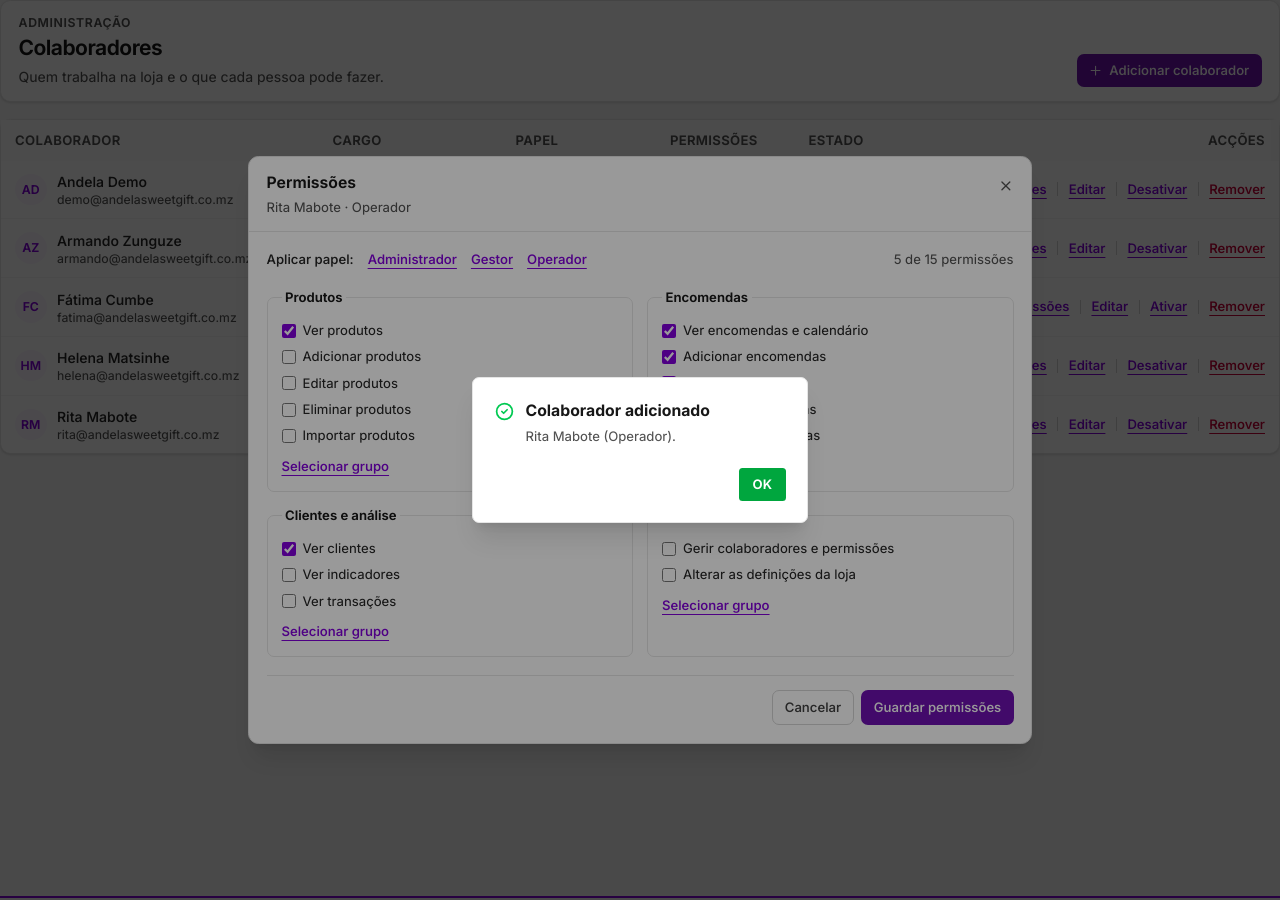
Test case: colaboradores › adiciona um colaborador e abre as permissões
Earlier steps of the test are not shown.
Expected: the text "5 de 15 permissões" is shown, left=894, top=250, right=1014, bottom=270
Step 1. Click the checkbox labelled "Ver indicadores" → [288, 575], box left=282, top=568, right=296, bottom=582
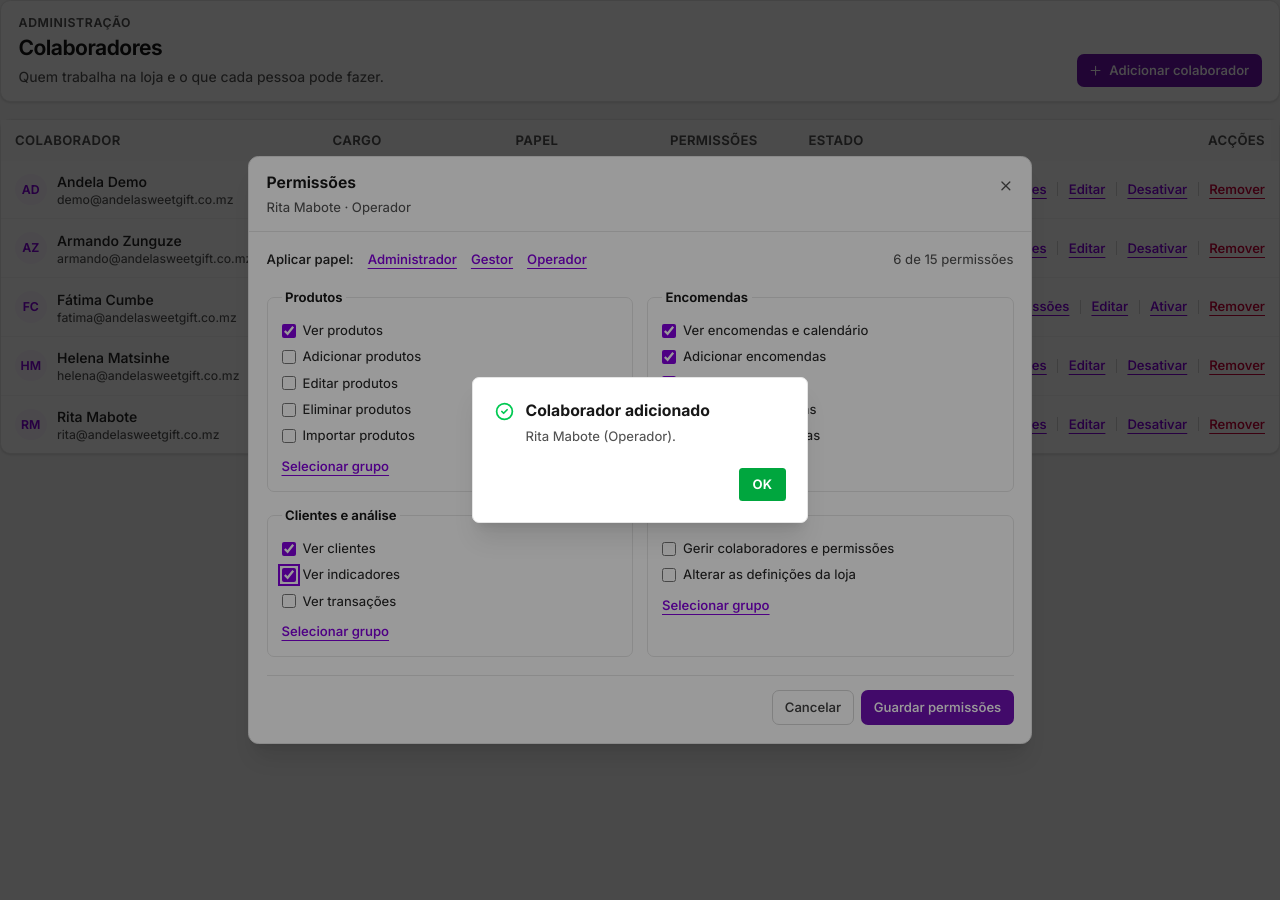
Expected: the text "6 de 15 permissões" is shown, left=893, top=250, right=1014, bottom=270
